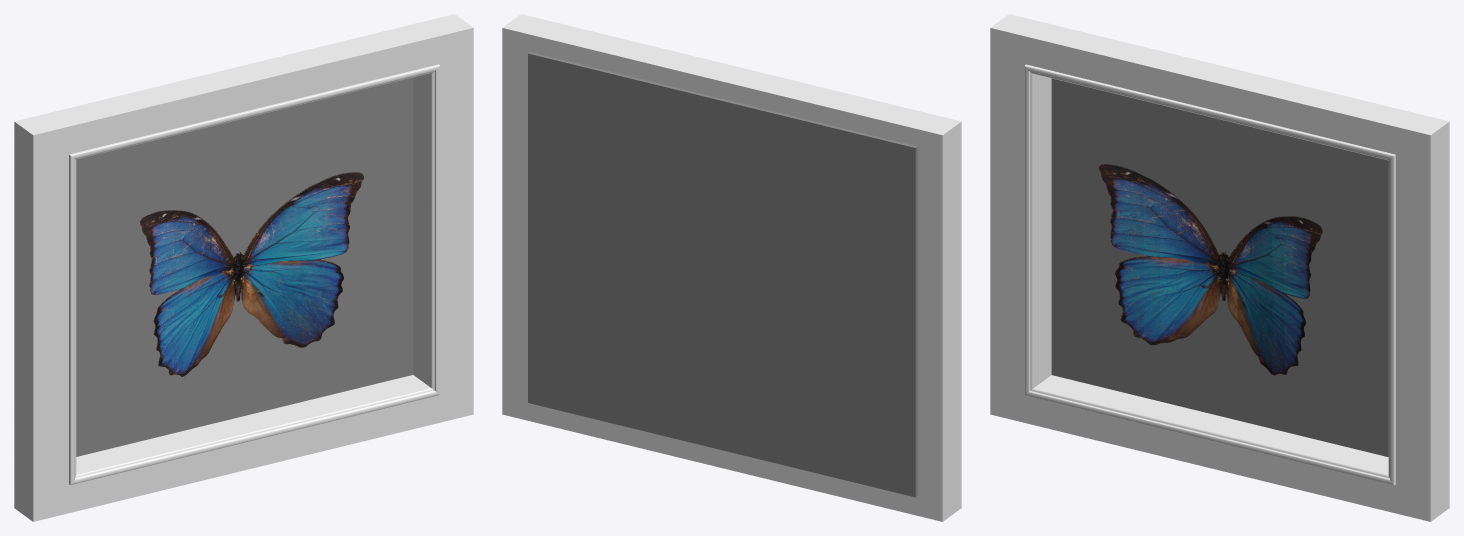
Rendered from Picture 1.FBX.
3 renders of one model, left to right at view 1: azimuth 30°, elevation 25°; view 2: azimuth 150°, elevation 25°; view 3: azimuth 330°, elevation 25°, orthographic.
Visible parts, largest first — view 1: Picture 1; view 2: Picture 1; view 3: Picture 1.
Boxes of the visible parts, x1,y1,x2,y2 form: Picture 1: [14, 14, 473, 521]; Picture 1: [502, 14, 961, 521]; Picture 1: [990, 14, 1449, 521].
Bounding box in the file's own units: 49.03 × 4.39 × 41.13.
Materials: 3 (1 with a texture image).
